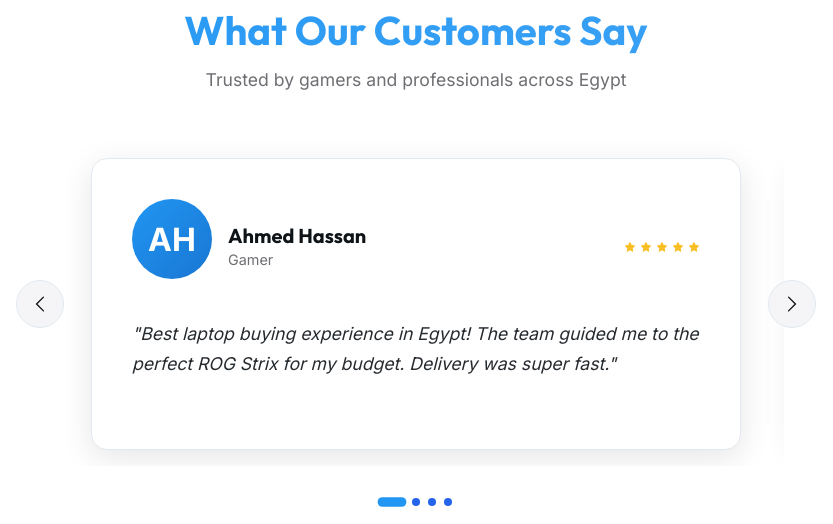
Test: Testimonials Component › should pause auto-transition on mouse enter
Hover over the text "Ahmed Hassan".
mouse_move(416, 304)  # box [16,142,816,466]
Expected: the heading "Ahmed Hassan" is shown, [228,223,366,248]
Move the pointer off the text "Ahmed Hassan", box [16,142,816,466]
Wait 5000 ms
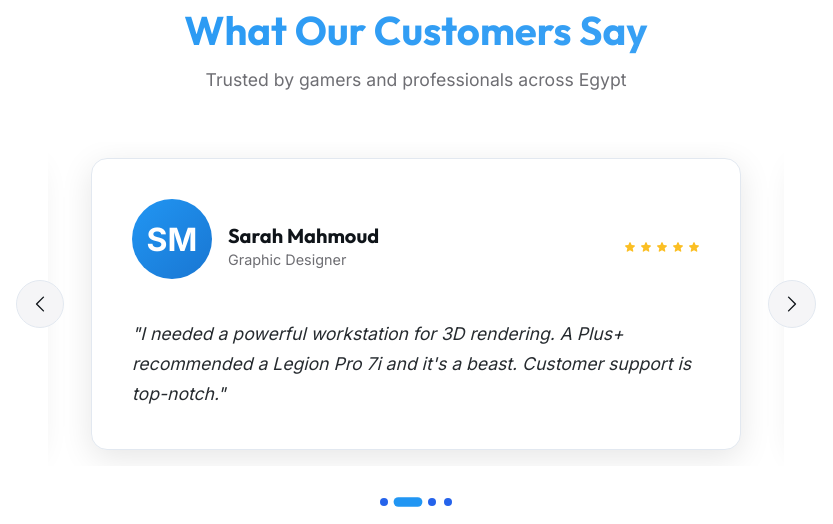
Result: the heading "Sarah Mahmoud" is shown at [228,223,379,248]
